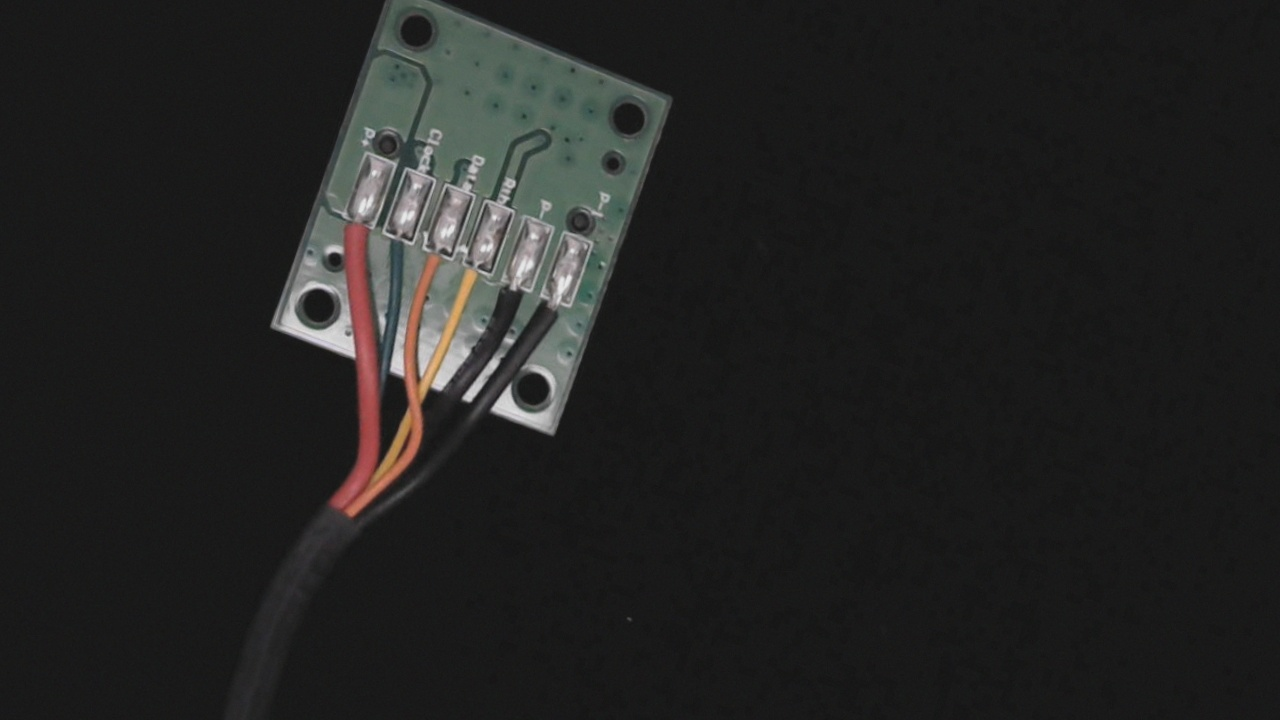Black: (482, 265, 538, 338)
Black1: (529, 278, 579, 343)
Green: (369, 220, 419, 284)
Orange: (406, 233, 458, 313)
Red: (328, 204, 380, 278)
Yellow: (439, 244, 495, 330)
